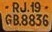character: (4, 12, 12, 25), (28, 14, 36, 27), (12, 13, 19, 26), (35, 13, 42, 26), (42, 14, 49, 27), (12, 2, 20, 13), (34, 1, 41, 13), (21, 14, 28, 26), (29, 1, 35, 13), (20, 2, 26, 12)
